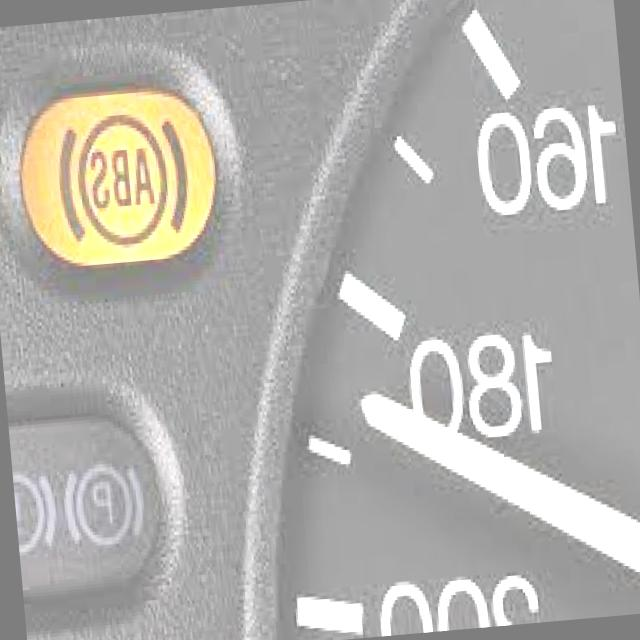kontrolka: (23, 74, 228, 272)
